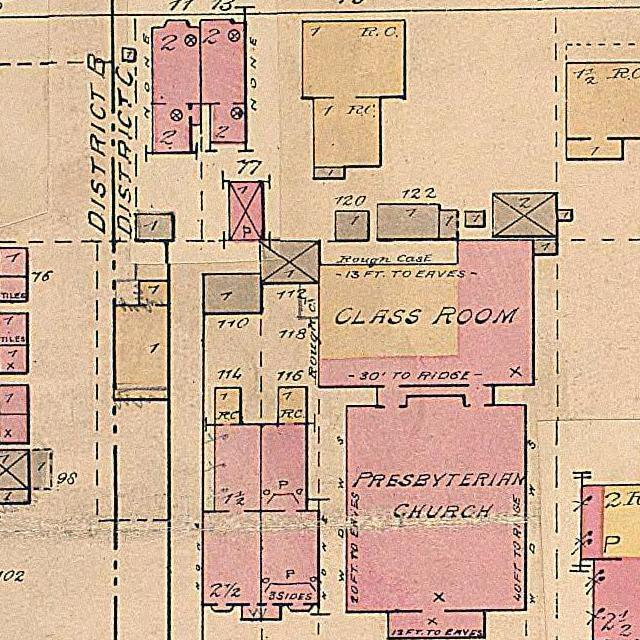building-footprints: (319, 240, 534, 638), (303, 20, 405, 167), (261, 387, 319, 619), (203, 388, 261, 619), (581, 485, 640, 640), (566, 63, 640, 160), (152, 20, 201, 153), (114, 281, 169, 399), (200, 20, 246, 143), (493, 194, 557, 237), (261, 240, 320, 283), (204, 274, 262, 313), (378, 204, 439, 240), (229, 182, 263, 240), (0, 450, 30, 489), (335, 211, 369, 241), (136, 214, 173, 241), (0, 314, 28, 345), (0, 248, 28, 277), (0, 385, 28, 414), (0, 414, 28, 443), (0, 345, 28, 374), (0, 277, 28, 301), (439, 210, 457, 240), (0, 490, 29, 503), (314, 167, 345, 179), (534, 240, 556, 254), (466, 211, 485, 227), (557, 210, 572, 221)
